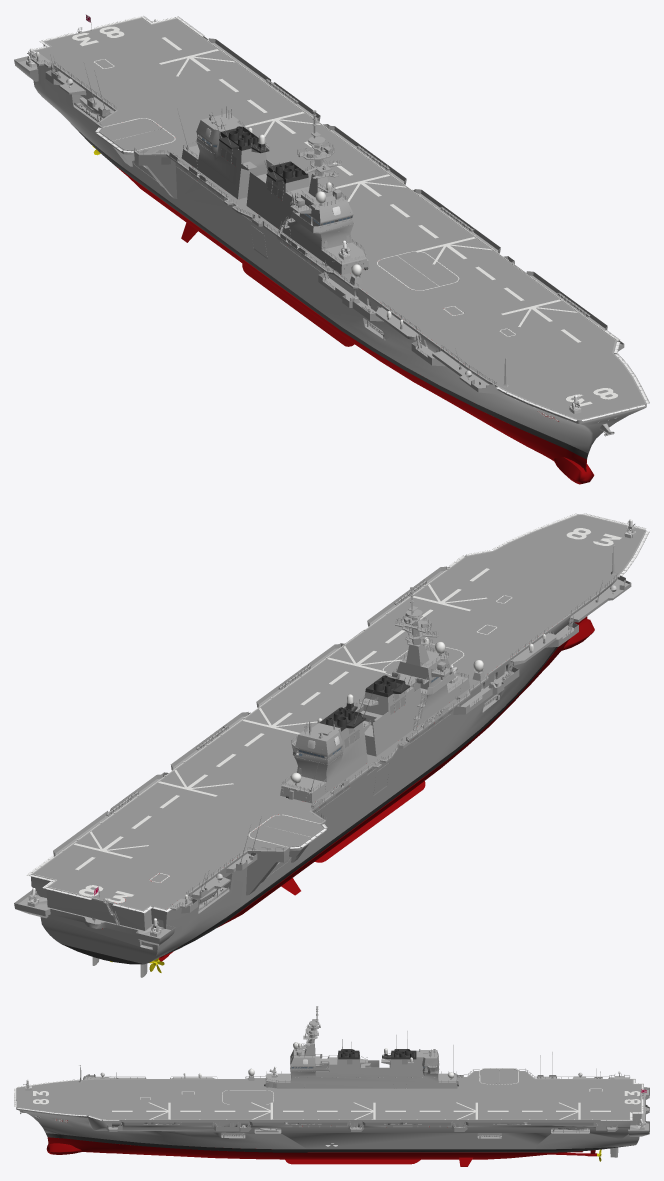
File: js_izumo_ddhcvm_-183-maximum-compressed.glb
3 renders of one model, top to bottom at view 1: azimuth 30°, elevation 25°; view 2: azimuth 150°, elevation 25°; view 3: azimuth 270°, elevation 25°, orthographic. The views are drawn at different scales.
Visible parts, largest first — view 1: skfb_offset; view 2: skfb_offset; view 3: skfb_offset.
Boxes of the visible parts, <box> form: skfb_offset: <box>14,14,649,484</box>; skfb_offset: <box>14,513,649,977</box>; skfb_offset: <box>14,1006,649,1166</box>.
Bounding box in the file's own units: 348 × 387 × 1677.
